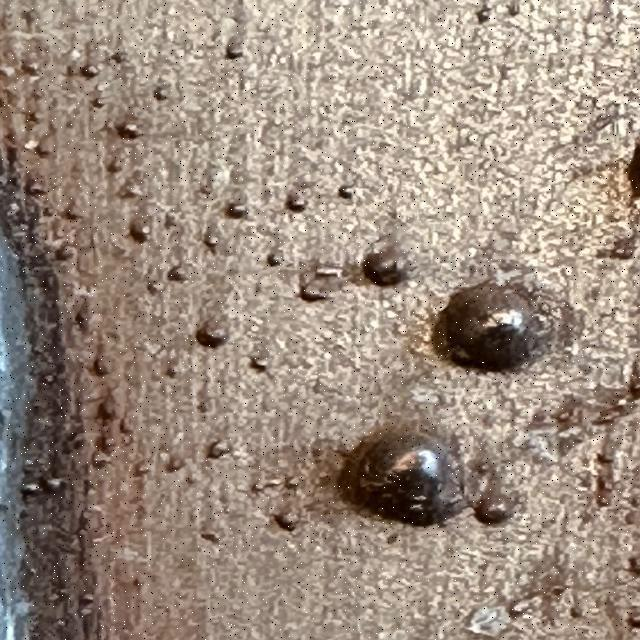Spatters: (41, 374, 54, 386)
